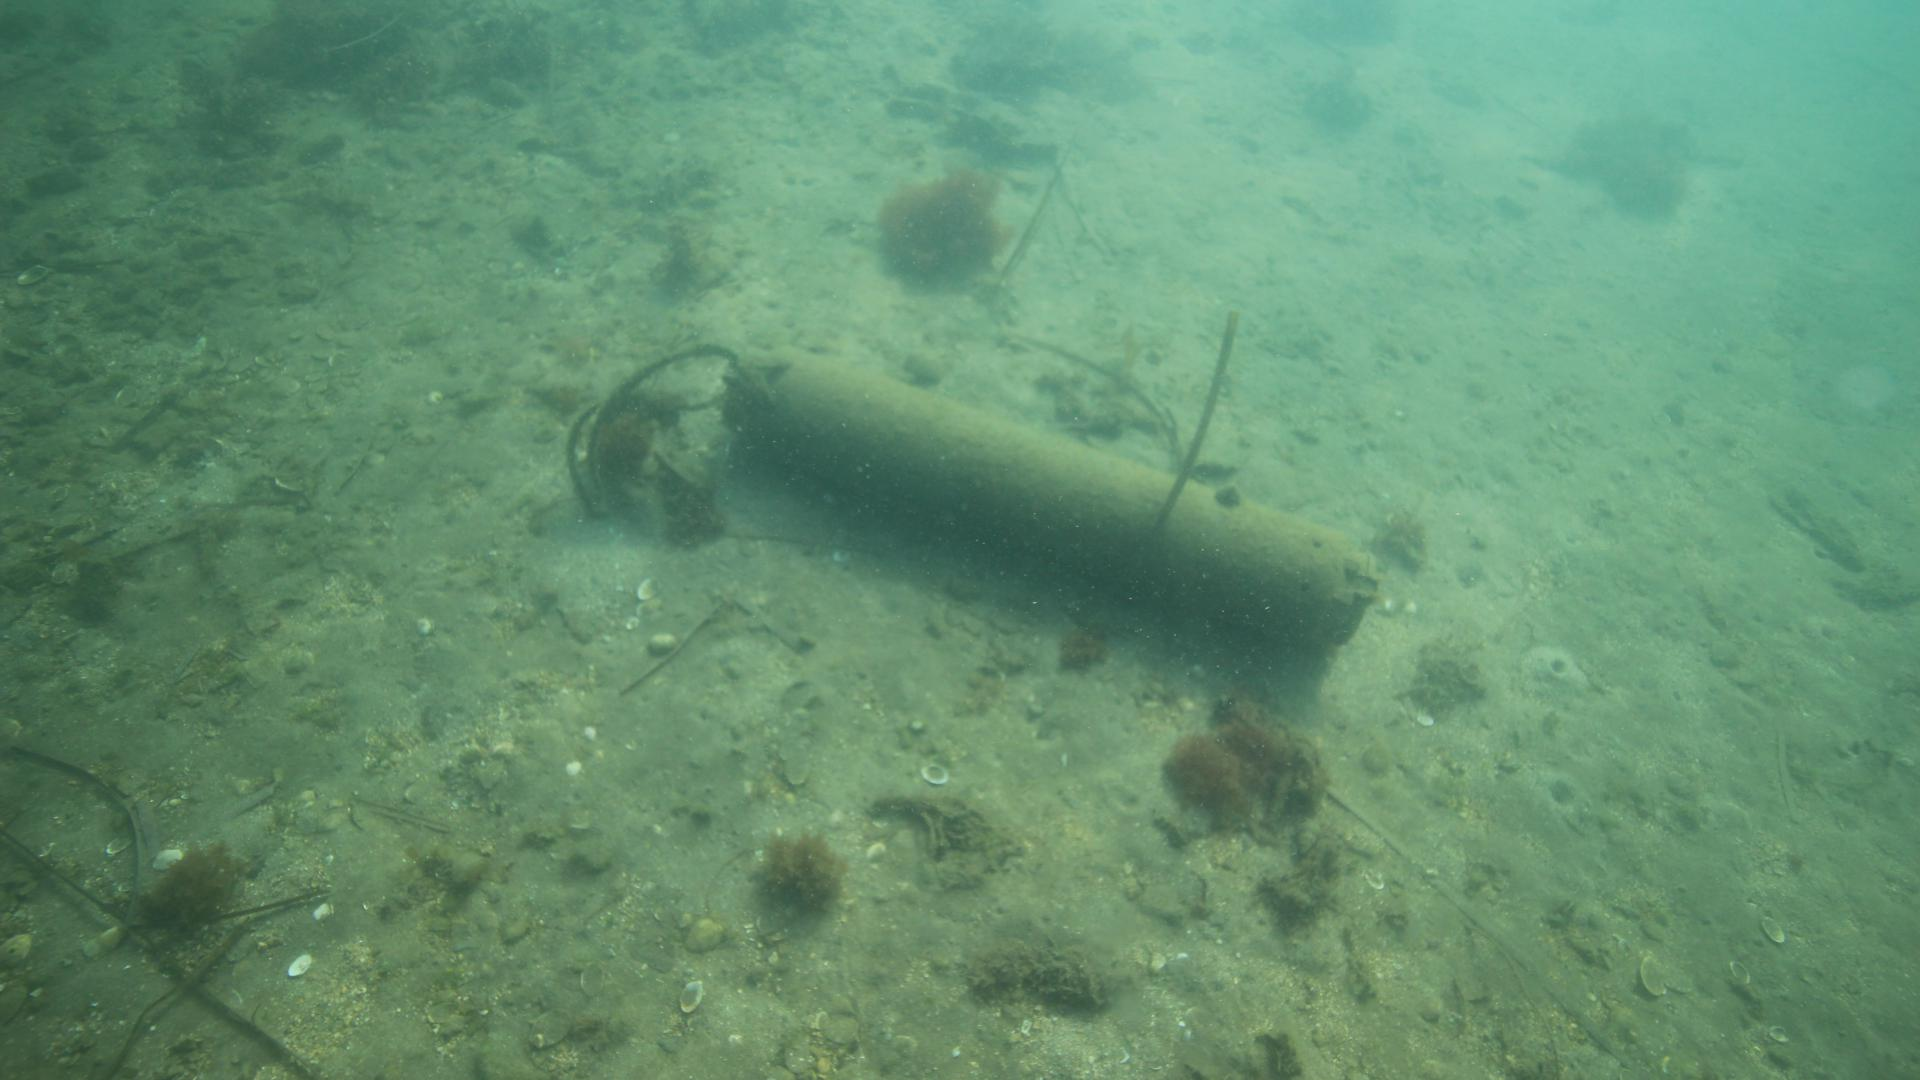eel fish trap: (727, 345, 1385, 653)
rope: (560, 336, 793, 518)
